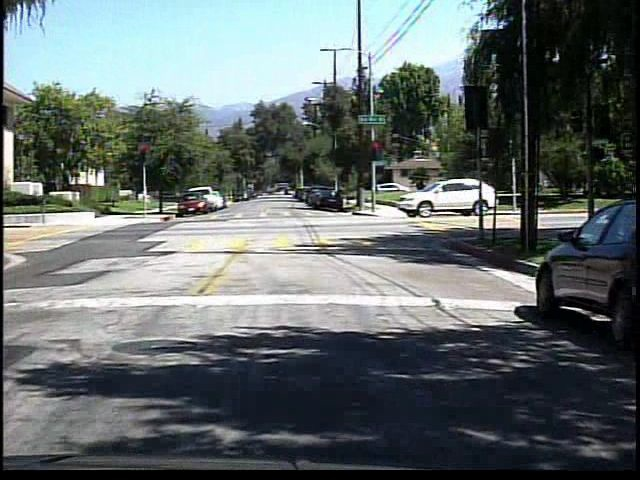person: (442, 174, 449, 193)
